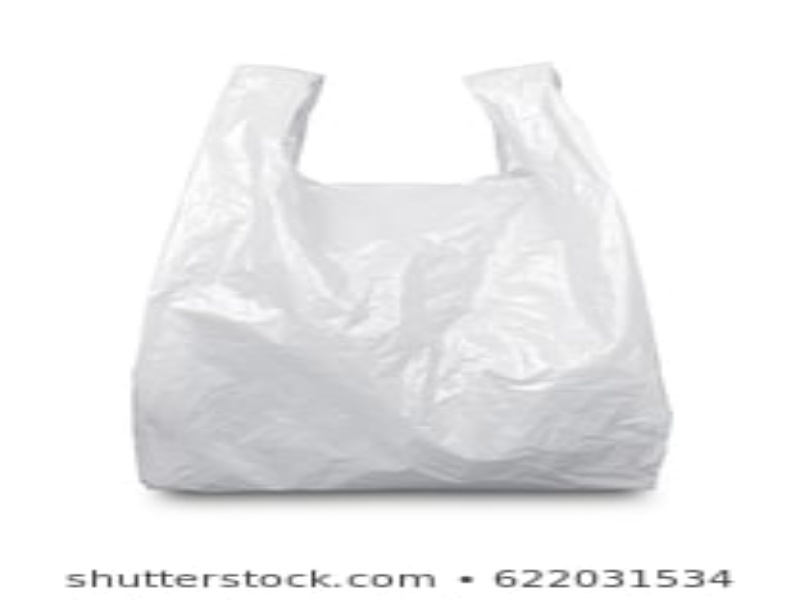plastic-bag: (131, 58, 675, 498)
